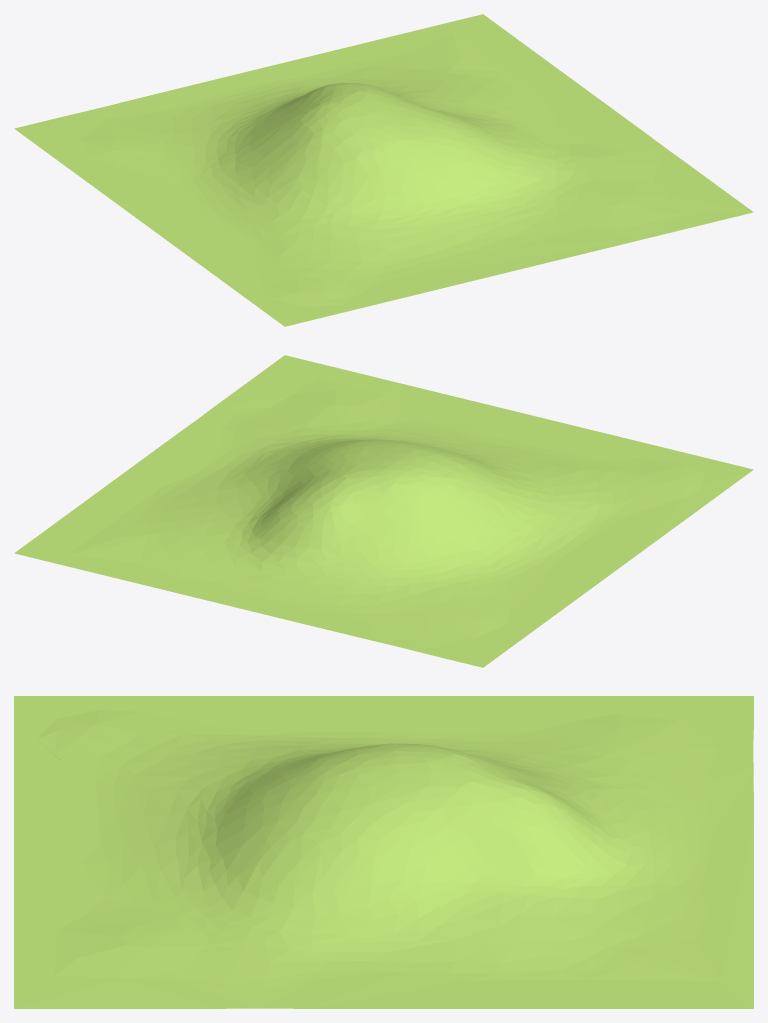
File: Terrain_02.fbx
3 views of the same model, one above another, from view 1: azimuth 30°, elevation 25°; view 2: azimuth 150°, elevation 25°; view 3: azimuth 270°, elevation 25° (orthographic). The views are drawn at different scales.
Parts seen in each view (by area): view 1: Terrain_02; view 2: Terrain_02; view 3: Terrain_02.
Boxes of the visible parts, x1,y1,x2,y2 form: Terrain_02: [14, 14, 753, 326]; Terrain_02: [14, 355, 753, 667]; Terrain_02: [14, 696, 753, 1008].
Size of the model in its own units: 524 by 61.64 by 524.
